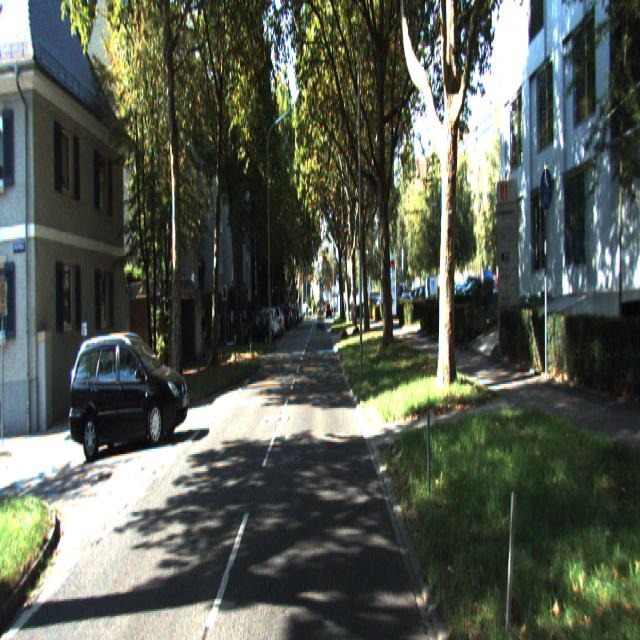Car: (69, 332, 189, 462), (244, 315, 271, 351)
